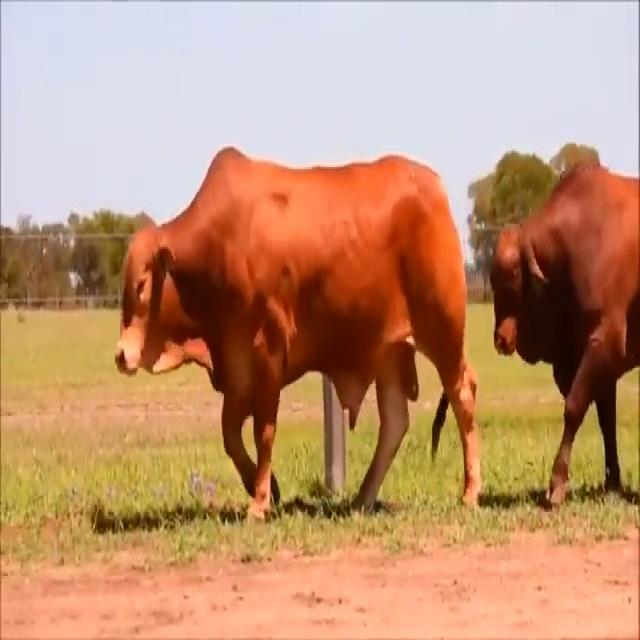COW: (116, 149, 479, 517), (495, 167, 640, 503)
